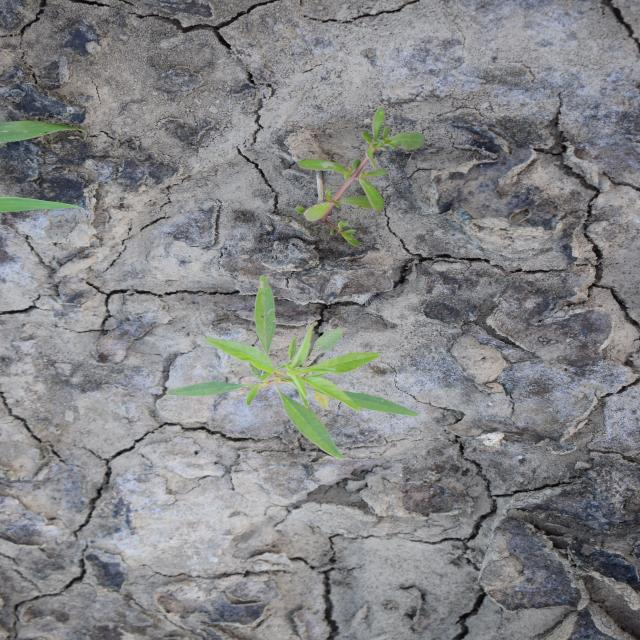Purslane: (294, 108, 426, 248)
Waterhemp: (164, 274, 420, 462)
